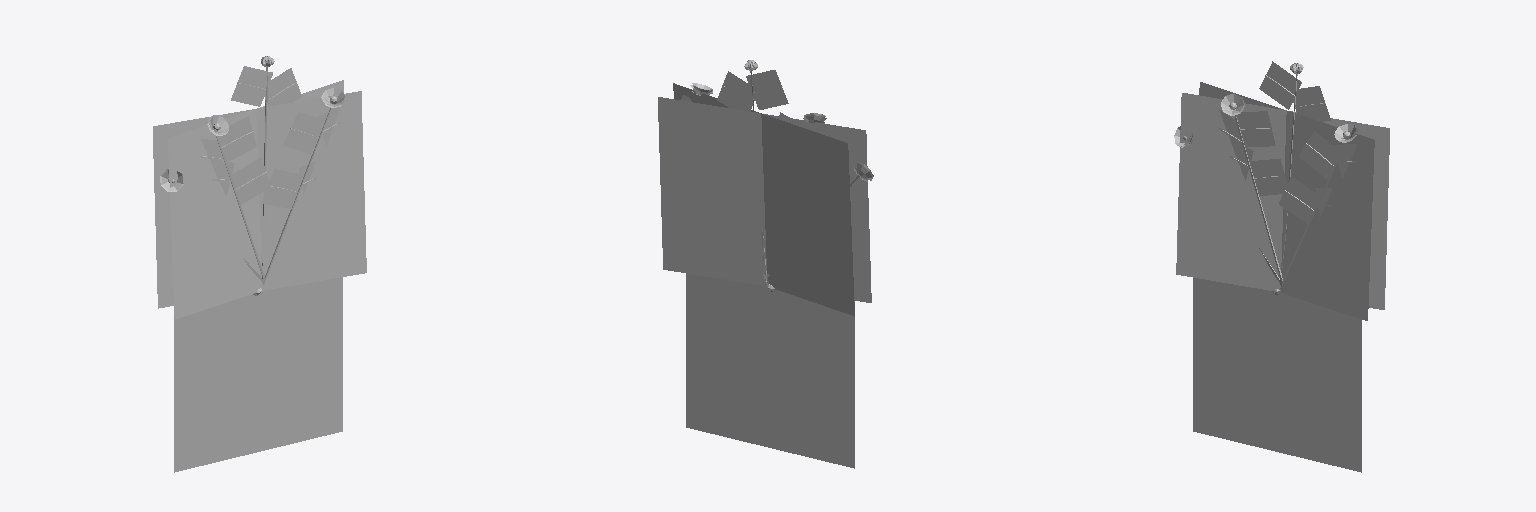
Rendered from MODEL_ranunculusCHALLENGE_G4_2.obj.
3 views of the same model, side by side, from view 1: azimuth 30°, elevation 25°; view 2: azimuth 150°, elevation 25°; view 3: azimuth 330°, elevation 25° (orthographic).
Parts seen in each view (by area): view 1: geo_plant_low1 geo_roots_plane, geo_plant_low1 geo_roots_plane3, geo_plant_low1 geo_roots_plane2, geo_plant_low1, geo_plant_low1 leaf_plain1 leaf_platform8, geo_plant_low1 leaf_platform4 leaf_plain, geo_plant_low1 leaf_plain1 leaf_platform7, geo_plant_low1 leaf_platform9 leaf_plain1, leaf_platform3 geo_plant_low1 leaf_plain, geo_plant_low1 leaf_platform leaf_plain; view 2: geo_plant_low1 geo_roots_plane, geo_plant_low1 geo_roots_plane2, geo_plant_low1 geo_roots_plane3, geo_plant_low1 leaf_platform9 leaf_plain1, geo_plant_low1 leaf_platform leaf_plain; view 3: geo_plant_low1 geo_roots_plane, geo_plant_low1 geo_roots_plane2, geo_plant_low1 geo_roots_plane3, leaf_platform3 geo_plant_low1 leaf_plain, geo_plant_low1, geo_plant_low1 leaf_platform4 leaf_plain, geo_plant_low1 leaf_plain1 leaf_platform8, geo_plant_low1 leaf_platform9 leaf_plain1, geo_plant_low1 leaf_plain1 leaf_platform7, geo_plant_low1 leaf_platform leaf_plain.
Boxes of the visible parts, x1=… form: geo_plant_low1 geo_roots_plane: x1=174, y1=273, x2=342, y2=472; geo_plant_low1 geo_roots_plane3: x1=153, y1=91, x2=366, y2=308; geo_plant_low1 geo_roots_plane2: x1=168, y1=80, x2=343, y2=319; geo_plant_low1: x1=216, y1=66, x2=331, y2=295; geo_plant_low1 leaf_plain1 leaf_platform8: x1=262, y1=169, x2=300, y2=208; geo_plant_low1 leaf_platform4 leaf_plain: x1=231, y1=157, x2=268, y2=203; geo_plant_low1 leaf_plain1 leaf_platform7: x1=283, y1=112, x2=321, y2=154; geo_plant_low1 leaf_platform9 leaf_plain1: x1=231, y1=66, x2=272, y2=106; leaf_platform3 geo_plant_low1 leaf_plain: x1=218, y1=116, x2=256, y2=161; geo_plant_low1 leaf_platform leaf_plain: x1=261, y1=68, x2=301, y2=106; geo_plant_low1 geo_roots_plane: x1=686, y1=273, x2=854, y2=468; geo_plant_low1 geo_roots_plane2: x1=658, y1=97, x2=871, y2=302; geo_plant_low1 geo_roots_plane3: x1=673, y1=83, x2=854, y2=316; geo_plant_low1 leaf_platform9 leaf_plain1: x1=746, y1=70, x2=788, y2=109; geo_plant_low1 leaf_platform leaf_plain: x1=717, y1=71, x2=758, y2=111; geo_plant_low1 geo_roots_plane: x1=1193, y1=275, x2=1361, y2=472; geo_plant_low1 geo_roots_plane2: x1=1176, y1=93, x2=1389, y2=309; geo_plant_low1 geo_roots_plane3: x1=1199, y1=82, x2=1374, y2=320; leaf_platform3 geo_plant_low1 leaf_plain: x1=1237, y1=111, x2=1275, y2=146; geo_plant_low1: x1=1235, y1=74, x2=1346, y2=294; geo_plant_low1 leaf_platform4 leaf_plain: x1=1249, y1=159, x2=1286, y2=195; geo_plant_low1 leaf_plain1 leaf_platform8: x1=1279, y1=176, x2=1317, y2=223; geo_plant_low1 leaf_platform9 leaf_plain1: x1=1259, y1=61, x2=1301, y2=109; geo_plant_low1 leaf_plain1 leaf_platform7: x1=1299, y1=131, x2=1336, y2=179; geo_plant_low1 leaf_platform leaf_plain: x1=1289, y1=86, x2=1330, y2=121.
Bounding box in the file's own units: 24.36 × 45.11 × 4.89.